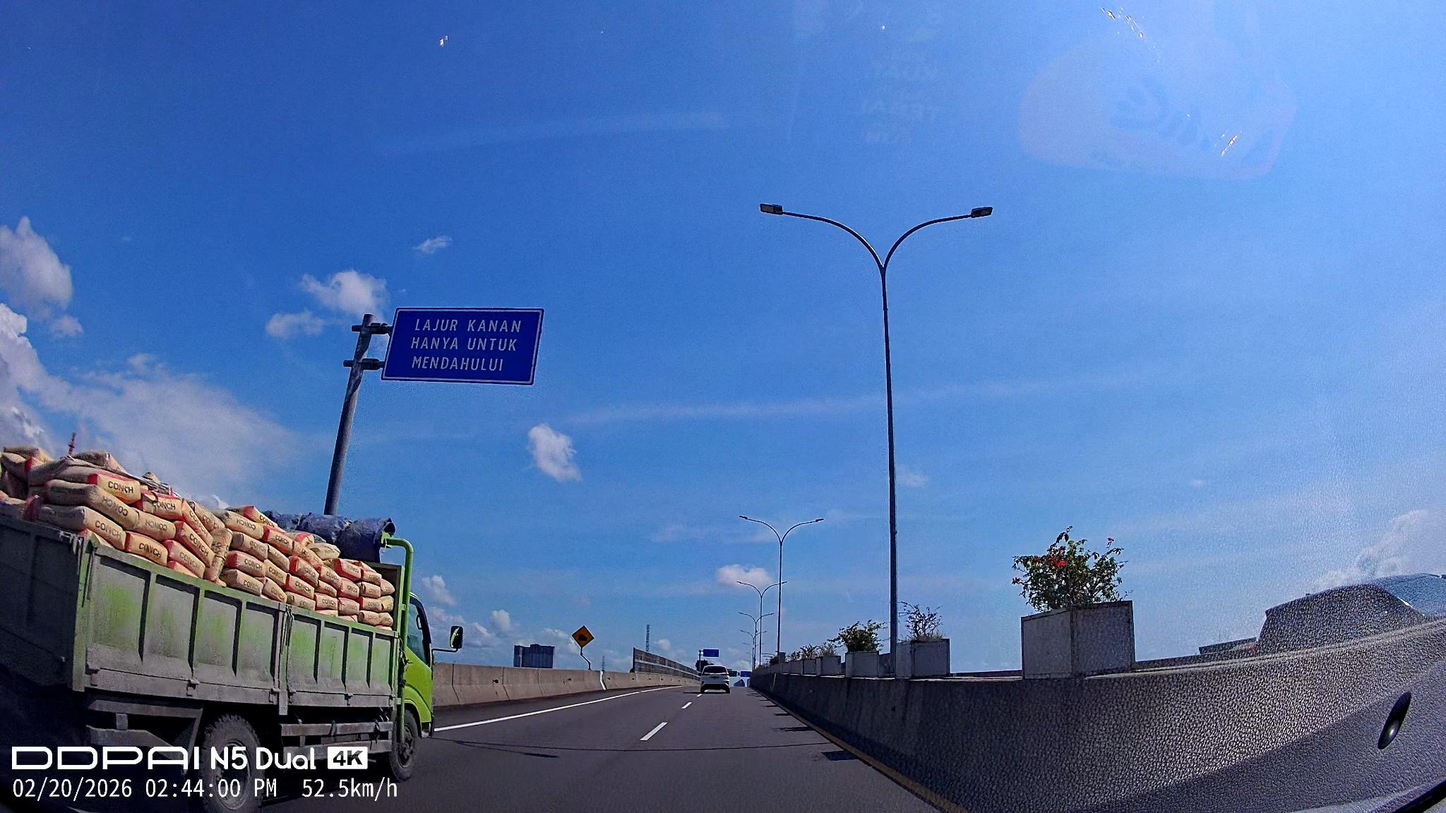rambu_teks: (380, 306, 546, 386)
